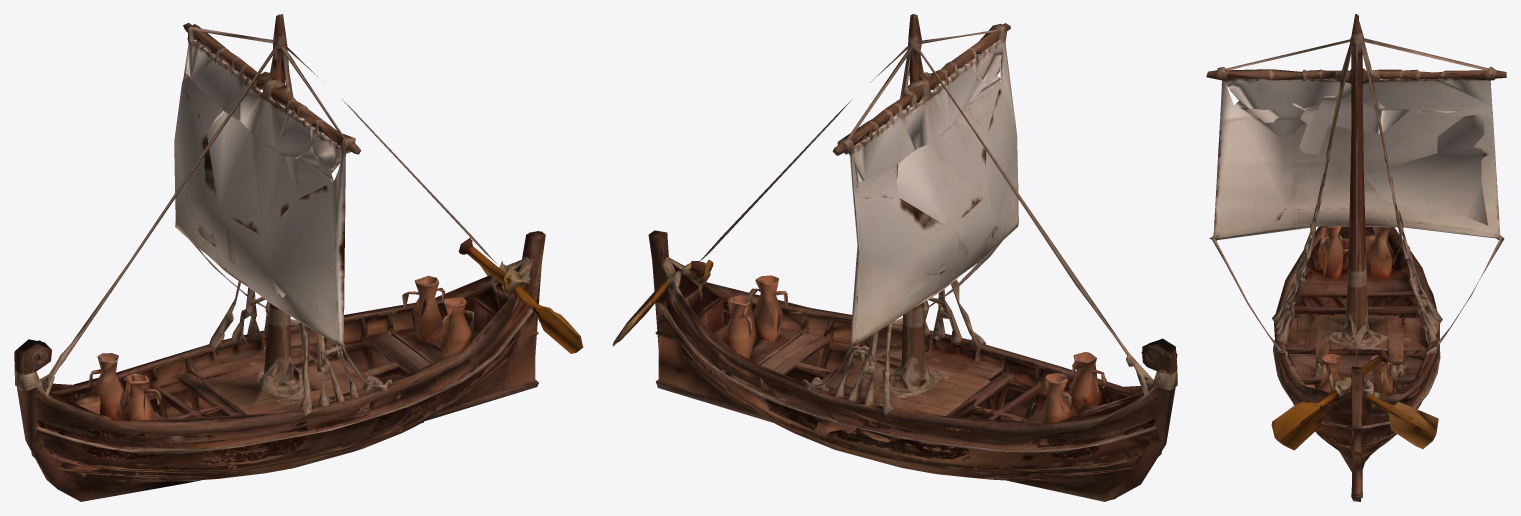
Rendered from baetulo-barco.glb.
The picture shows the model from 3 angles, left to right: view 1: azimuth 30°, elevation 25°; view 2: azimuth 150°, elevation 25°; view 3: azimuth 270°, elevation 25°; orthographic projection. The views are drawn at different scales.
Visible parts, largest first — view 1: geometry_0; view 2: geometry_0; view 3: geometry_0.
Part boxes in pixels (<box>): geometry_0: <box>14,14,583,501</box>; geometry_0: <box>612,14,1177,501</box>; geometry_0: <box>1206,14,1506,501</box>.
Bounding box in the file's own units: 0.9975 × 0.8072 × 0.5662.
Materials: 1 (1 with a texture image).
